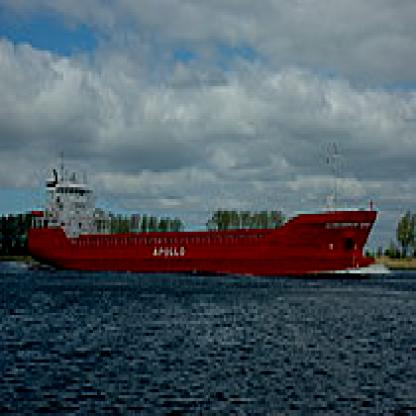Tanker: (18, 158, 372, 288)
